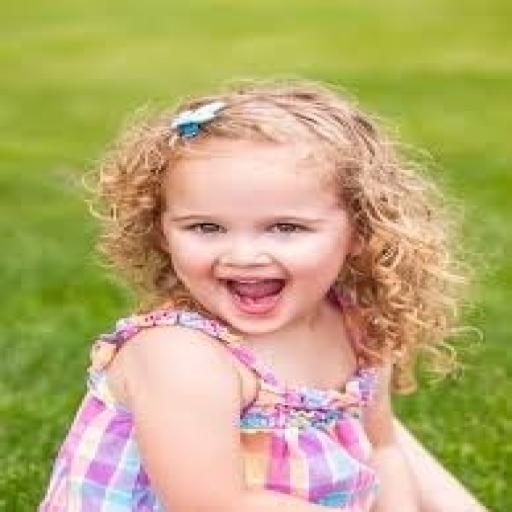laughing: (29, 71, 504, 510)
